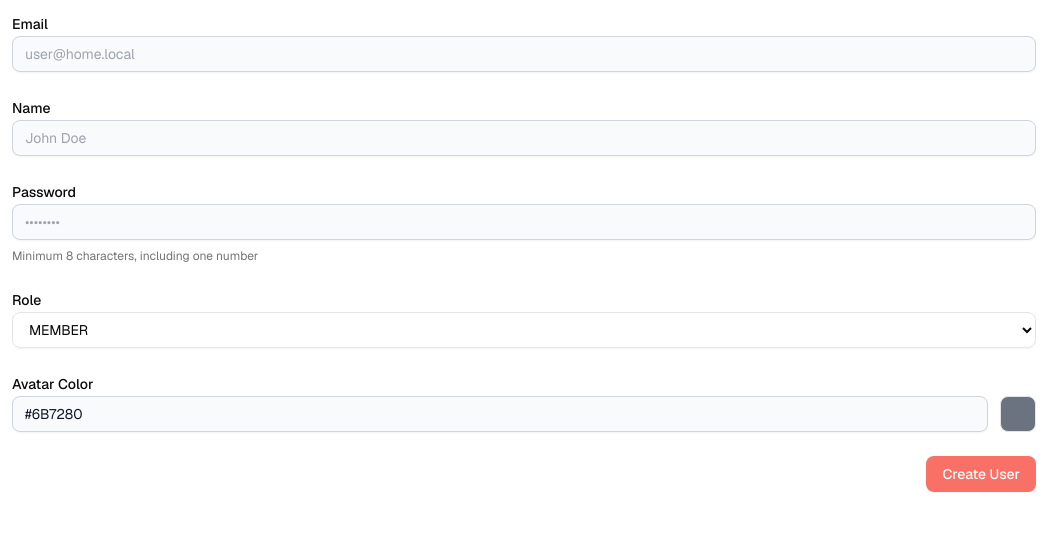
Test: UserForm Component › Form Validation › should validate email format
The image size is (1048, 537).
Type "invalid-email" into the field labelled "Email" at point(524, 54), box [12, 36, 1036, 72]
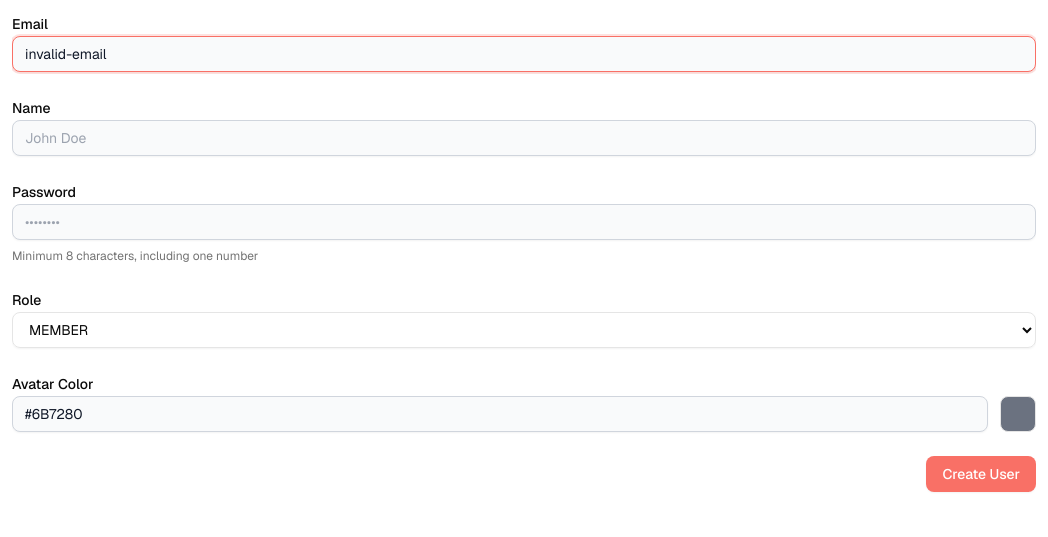
Press Tab
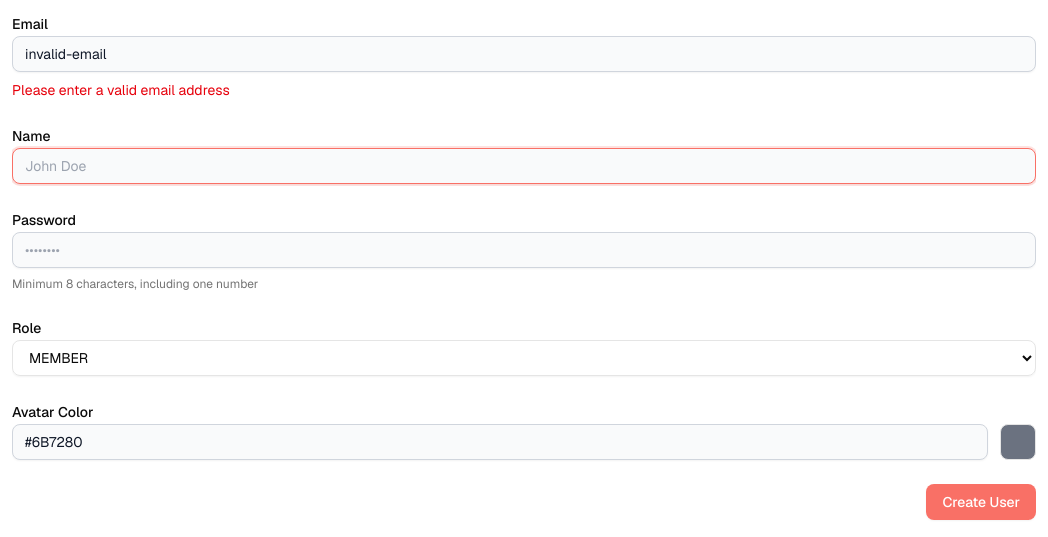
Check: the text "Please enter a valid email address" is shown, box [12, 81, 230, 99]
